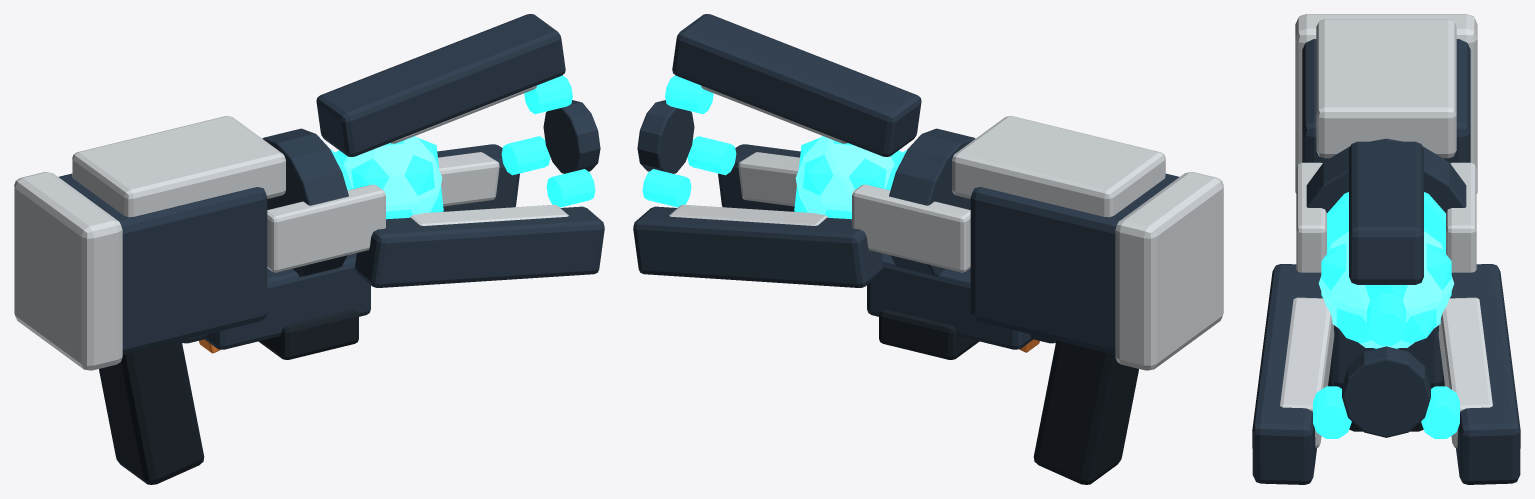
Rendered from lg_duel_plasma_gun.glb.
The picture shows the model from 3 angles, left to right: view 1: azimuth 30°, elevation 25°; view 2: azimuth 150°, elevation 25°; view 3: azimuth 270°, elevation 25°; orthographic projection. The views are drawn at different scales.
Visible parts, largest first — view 1: PG_REAR_HOUSING, PG_REAR_CAP, PG_PRONG_TOP_FRAME, PG_PRONG_LOWER_LEFT_FRAME, PG_TOP_ARMOR, PG_PRIMARY_GRIP, PG_SIDE_BRACE, PG_LOWER_POWER_HOUSING, PG_CORE_REAR_COLLAR, PG_CORE, PG_MUZZLE_CONVERGENCE_RING, PG_SUPPORT_PAD (+7 smaller); view 2: PG_REAR_HOUSING, PG_REAR_CAP, PG_PRONG_TOP_FRAME, PG_PRONG_LOWER_RIGHT_FRAME, PG_TOP_ARMOR, PG_PRIMARY_GRIP, PG_SIDE_BRACE.001, PG_LOWER_POWER_HOUSING, PG_CORE_REAR_COLLAR, PG_CORE, PG_MUZZLE_CONVERGENCE_RING, PG_SUPPORT_PAD (+7 smaller); view 3: PG_TOP_ARMOR, PG_PRONG_TOP_FRAME, PG_PRONG_LOWER_LEFT_FRAME, PG_PRONG_LOWER_RIGHT_FRAME, PG_MUZZLE_CONVERGENCE_RING, PG_PRONG_LOWER_LEFT_CERAMIC, PG_PRONG_LOWER_RIGHT_CERAMIC, PG_REAR_CAP, PG_CORE_FACET, PG_CORE, PG_REAR_HOUSING, PG_CORE_REAR_COLLAR (+7 smaller).
Boxes of the visible parts, x1,y1,x2,y2 form: PG_REAR_HOUSING: (59, 173, 267, 354); PG_REAR_CAP: (14, 172, 122, 370); PG_PRONG_TOP_FRAME: (316, 14, 565, 156); PG_PRONG_LOWER_LEFT_FRAME: (355, 206, 604, 287); PG_TOP_ARMOR: (72, 116, 285, 217); PG_PRIMARY_GRIP: (99, 340, 204, 484); PG_SIDE_BRACE: (267, 184, 385, 272); PG_LOWER_POWER_HOUSING: (205, 253, 370, 349); PG_CORE_REAR_COLLAR: (262, 128, 348, 277); PG_CORE: (343, 136, 442, 214); PG_MUZZLE_CONVERGENCE_RING: (543, 100, 600, 173); PG_SUPPORT_PAD: (258, 309, 358, 359); PG_REAR_HOUSING: (970, 173, 1178, 354); PG_REAR_CAP: (1115, 172, 1223, 370); PG_PRONG_TOP_FRAME: (672, 14, 921, 156); PG_PRONG_LOWER_RIGHT_FRAME: (633, 206, 882, 287); PG_TOP_ARMOR: (952, 116, 1165, 217); PG_PRIMARY_GRIP: (1033, 340, 1138, 484); PG_SIDE_BRACE.001: (852, 184, 970, 272); PG_LOWER_POWER_HOUSING: (867, 253, 1032, 349); PG_CORE_REAR_COLLAR: (889, 128, 975, 277); PG_CORE: (795, 136, 894, 214); PG_MUZZLE_CONVERGENCE_RING: (637, 100, 694, 173); PG_SUPPORT_PAD: (879, 309, 979, 359); PG_TOP_ARMOR: (1316, 19, 1456, 158); PG_PRONG_TOP_FRAME: (1349, 141, 1423, 284); PG_PRONG_LOWER_LEFT_FRAME: (1252, 264, 1322, 484); PG_PRONG_LOWER_RIGHT_FRAME: (1450, 264, 1520, 484); PG_MUZZLE_CONVERGENCE_RING: (1342, 346, 1430, 437); PG_PRONG_LOWER_LEFT_CERAMIC: (1280, 297, 1334, 448); PG_PRONG_LOWER_RIGHT_CERAMIC: (1438, 297, 1492, 448); PG_REAR_CAP: (1295, 14, 1477, 193); PG_CORE_FACET: (1321, 228, 1451, 348); PG_CORE: (1318, 231, 1454, 347); PG_REAR_HOUSING: (1302, 39, 1470, 162); PG_CORE_REAR_COLLAR: (1306, 138, 1466, 212).
Size of the model in its own units: 1.59 by 1.01 by 0.5739.
